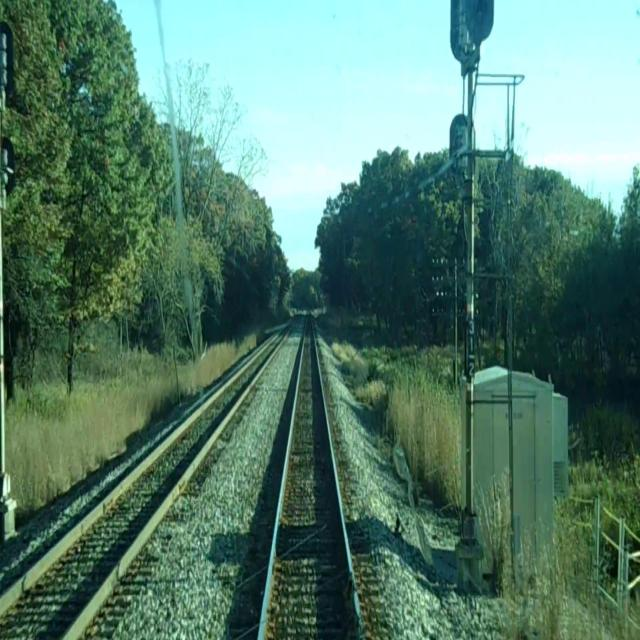rail-track: (0, 314, 298, 639), (263, 311, 360, 639)
